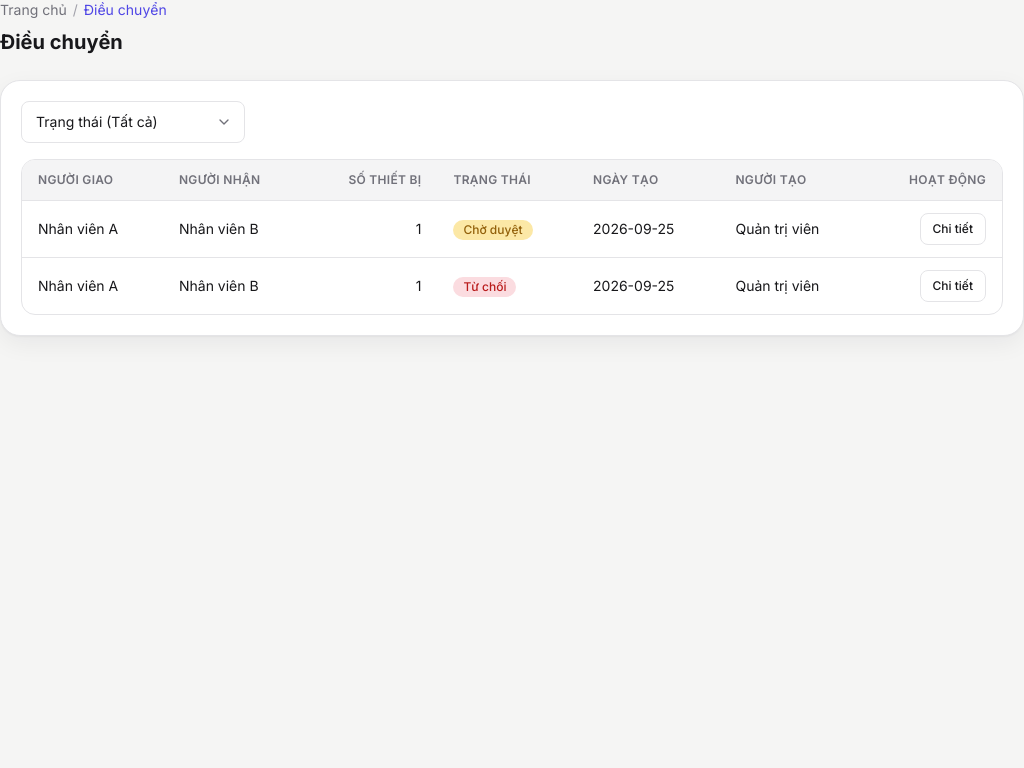
Quản trị viên: mọi dòng có nút "Chi tiết", bấm thì mở modal
Step 1. Click the button "Chi tiết" in the row of "Chờ duyệt" → {"x": 953, "y": 229}, box x1=920 y1=213 x2=986 y2=245
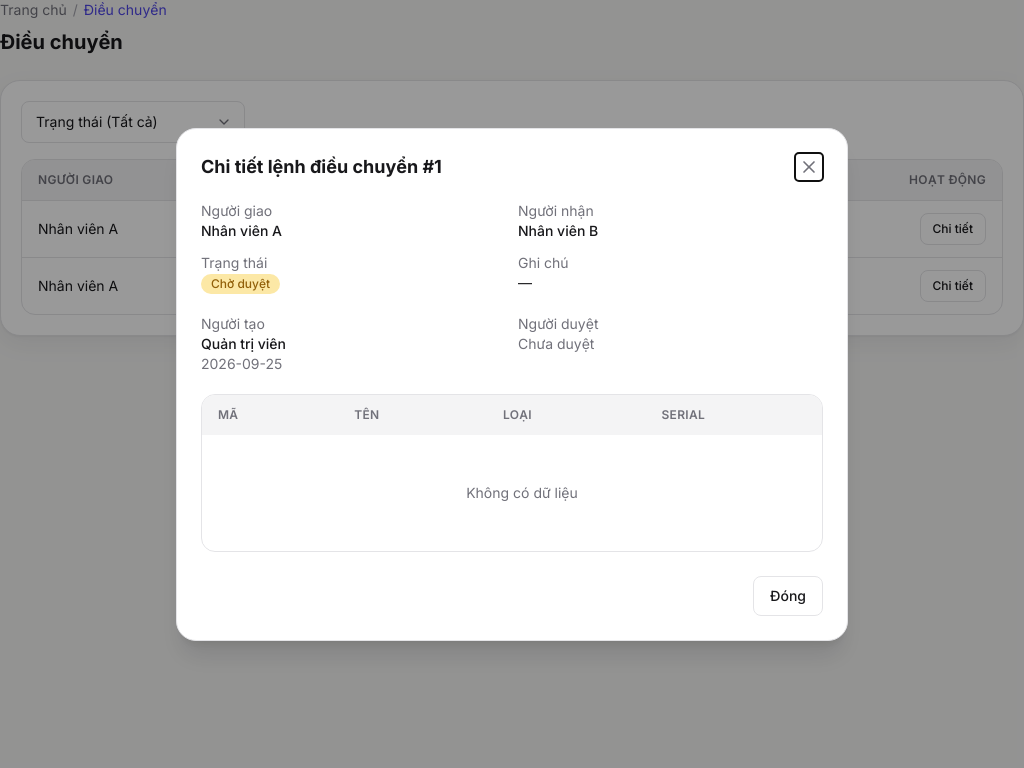
Expected: the heading "Chi tiết lệnh điều chuyển #1" is shown, x1=201 y1=152 x2=442 y2=180
